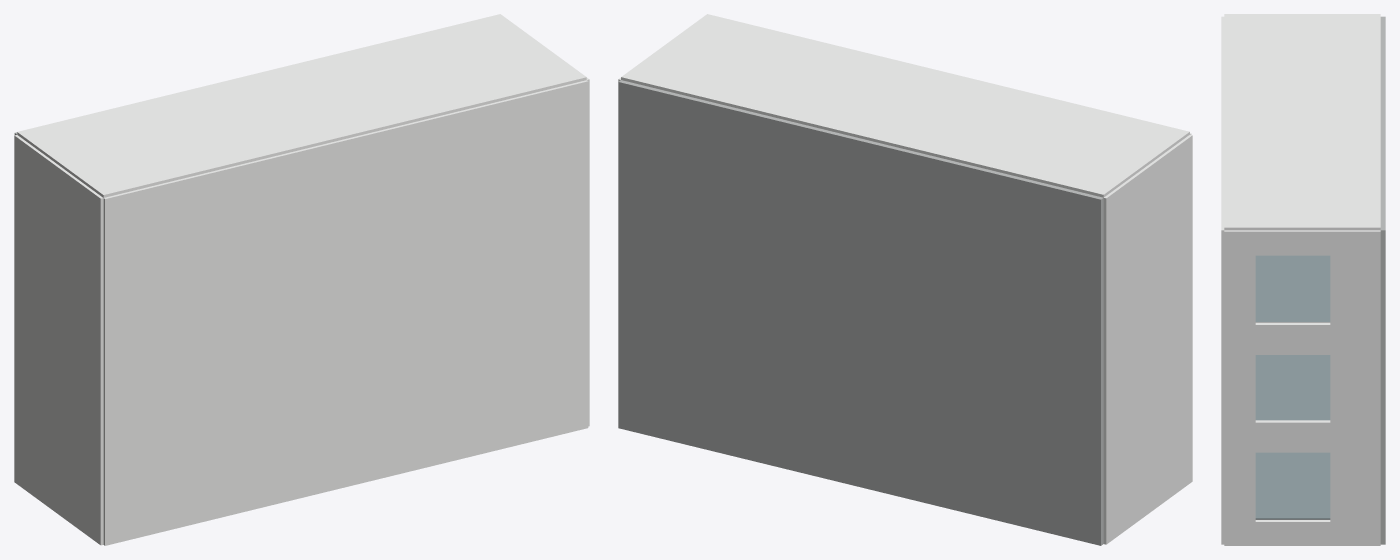
The model's file is open_office_detailed.glb.
3 renders of one model, left to right at view 1: azimuth 30°, elevation 25°; view 2: azimuth 150°, elevation 25°; view 3: azimuth 270°, elevation 25°, orthographic. The views are drawn at different scales.
Parts seen in each view (by area): view 1: CeilingMain, BackWall, LeftWall; view 2: Floor, BackWall, LeftWall; view 3: BackWall, RightWallLower, RightWallUpper, WindowGlass_0, WindowGlass_2, WindowGlass_1, RightWallBackStrip, RightWallFrontStrip, Floor, RightWallMullionZone_0, RightWallMullionZone_1, CeilingMain.
Boxes of the visible parts, left/top/right/bottom form: CeilingMain: left=103, top=80, right=588, bottom=545; BackWall: left=17, top=14, right=586, bottom=197; LeftWall: left=14, top=135, right=103, bottom=545; Floor: left=618, top=80, right=1103, bottom=545; BackWall: left=621, top=14, right=1189, bottom=197; LeftWall: left=1103, top=134, right=1192, bottom=544; BackWall: left=1224, top=14, right=1380, bottom=230; RightWallLower: left=1330, top=255, right=1380, bottom=521; RightWallUpper: left=1224, top=255, right=1255, bottom=521; WindowGlass_0: left=1255, top=452, right=1330, bottom=518; WindowGlass_2: left=1255, top=255, right=1330, bottom=321; WindowGlass_1: left=1255, top=355, right=1330, bottom=420; RightWallBackStrip: left=1224, top=230, right=1380, bottom=255; RightWallFrontStrip: left=1224, top=519, right=1380, bottom=545; Floor: left=1380, top=16, right=1385, bottom=544; RightWallMullionZone_0: left=1255, top=420, right=1330, bottom=452; RightWallMullionZone_1: left=1255, top=322, right=1330, bottom=354; CeilingMain: left=1221, top=16, right=1224, bottom=544.
Bounding box in the file's own units: 10.62 × 7.26 × 3.41.
